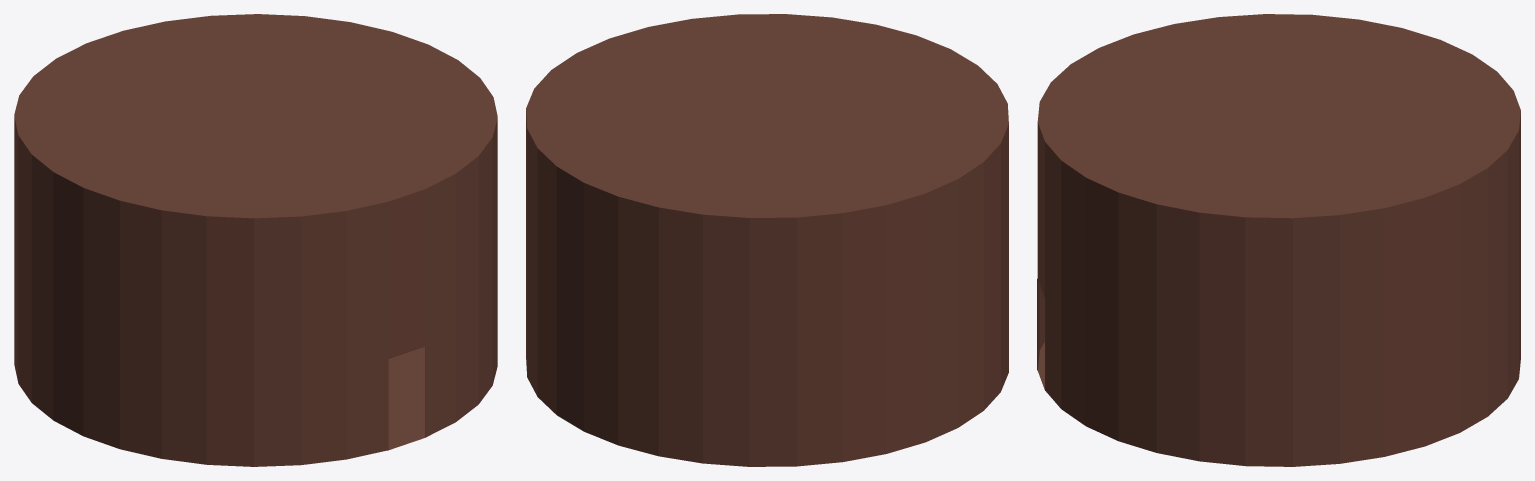
Rendered from office.glb.
3 renders of one model, left to right at view 1: azimuth 30°, elevation 25°; view 2: azimuth 150°, elevation 25°; view 3: azimuth 270°, elevation 25°, orthographic.
Parts seen in each view (by area): view 1: House; view 2: House; view 3: House.
Boxes of the visible parts, x1,y1,x2,y2 form: House: (14,14,497,466); House: (526,14,1008,466); House: (1037,14,1520,466).
Size of what is drawn, in the model's own units: 2.37 by 1.34 by 2.37.
